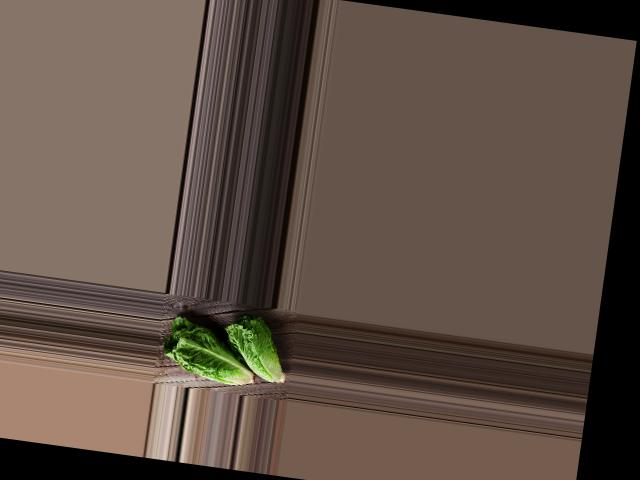lettuce: (216, 306, 298, 387)
